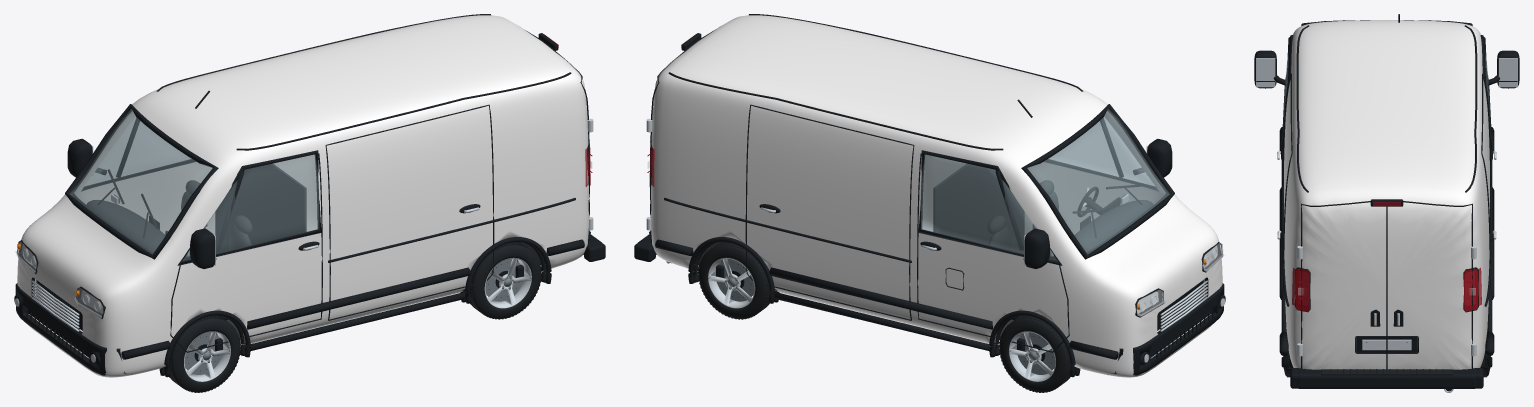
Rendered from van.glb.
3 views of the same model, side by side, from view 1: azimuth 30°, elevation 25°; view 2: azimuth 150°, elevation 25°; view 3: azimuth 270°, elevation 25° (orthographic).
Visible parts, largest first — view 1: Van continuous hollow 12-station steel shell, Van raked panoramic windscreen curved laminated transparent , Front door window curved transparent pane -1, Cargo cabin partition, Front door window curved transparent pane 1, Van raked panoramic windscreen recessed rubber gasket, 107 reused Sculpted_tyre.002, 107 reused Sculpted_tyre, Wide moulded front bumper fascia, Textured protective lower side rubbing strip.001, Rocker moulding, Sculpted dashboard (+14 smaller); view 2: Van continuous hollow 12-station steel shell, Van raked panoramic windscreen curved laminated transparent , Front door window curved transparent pane 1, Cargo cabin partition, Front door window curved transparent pane -1, Van raked panoramic windscreen recessed rubber gasket, 107 reused Sculpted_tyre.001, 107 reused Sculpted_tyre.003, Wide moulded front bumper fascia, Textured protective lower side rubbing strip.004, Rocker moulding.001, Sculpted dashboard (+14 smaller); view 3: Van continuous hollow 12-station steel shell, Broad contoured rear step bumper main manufactured bar, Vertical corner wrap tail lamp continuous formed optical len (×2), Broad contoured rear step bumper step tread insert, Blank light registration plate, Satin mirror reflective inset, Satin mirror reflective inset.001, Sliding cargo door perimeter.001, Sliding cargo door perimeter, License plate inset shadow, High roof rain gutter, High roof rain gutter.001 (+14 smaller).
Boxes of the visible parts, <box> form: Van continuous hollow 12-station steel shell: <box>17,15,588,377</box>; Van raked panoramic windscreen curved laminated transparent : <box>69,109,212,254</box>; Front door window curved transparent pane -1: <box>182,154,319,261</box>; Cargo cabin partition: <box>215,163,306,252</box>; Front door window curved transparent pane 1: <box>85,117,190,186</box>; Van raked panoramic windscreen recessed rubber gasket: <box>65,104,218,259</box>; 107 reused Sculpted_tyre.002: <box>469,242,541,318</box>; 107 reused Sculpted_tyre: <box>168,315,240,392</box>; Wide moulded front bumper fascia: <box>15,283,132,375</box>; Textured protective lower side rubbing strip.001: <box>247,267,470,329</box>; Rocker moulding: <box>244,292,465,351</box>; Sculpted dashboard: <box>86,200,183,260</box>; Van continuous hollow 12-station steel shell: <box>651,15,1222,377</box>; Van raked panoramic windscreen curved laminated transparent : <box>1027,108,1170,254</box>; Front door window curved transparent pane 1: <box>920,154,1057,261</box>; Cargo cabin partition: <box>933,163,1024,253</box>; Front door window curved transparent pane -1: <box>1049,117,1154,186</box>; Van raked panoramic windscreen recessed rubber gasket: <box>1021,104,1174,259</box>; 107 reused Sculpted_tyre.001: <box>999,315,1071,392</box>; 107 reused Sculpted_tyre.003: <box>698,242,770,318</box>; Wide moulded front bumper fascia: <box>1107,283,1224,375</box>; Textured protective lower side rubbing strip.004: <box>769,267,992,329</box>; Rocker moulding.001: <box>774,292,995,351</box>; Sculpted dashboard: <box>1056,200,1153,260</box>; Van continuous hollow 12-station steel shell: <box>1284,20,1489,369</box>; Broad contoured rear step bumper main manufactured bar: <box>1297,369,1476,388</box>; Vertical corner wrap tail lamp continuous formed optical len (×2): <box>1295,268,1478,311</box>; Broad contoured rear step bumper step tread insert: <box>1321,369,1452,375</box>; Blank light registration plate: <box>1362,339,1411,350</box>; Satin mirror reflective inset: <box>1256,58,1275,87</box>; Satin mirror reflective inset.001: <box>1498,58,1517,87</box>; Sliding cargo door perimeter.001: <box>1481,73,1491,288</box>; Sliding cargo door perimeter: <box>1282,73,1292,288</box>; License plate inset shadow: <box>1357,336,1416,352</box>; High roof rain gutter: <box>1296,25,1309,192</box>; High roof rain gutter.001: <box>1464,25,1477,192</box>.
Size of the model in its own units: 5.7 by 2.65 by 2.62.
Materials: 11 (10 with a texture image).
